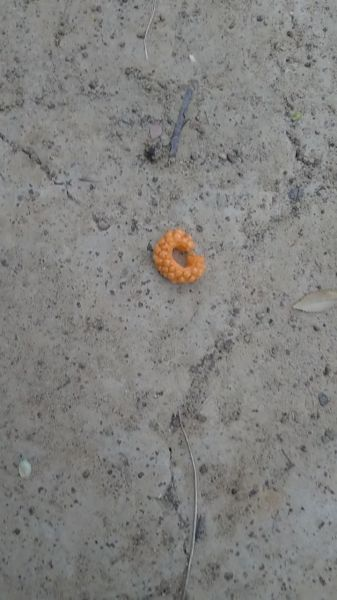eggs: (145, 226, 205, 287)
